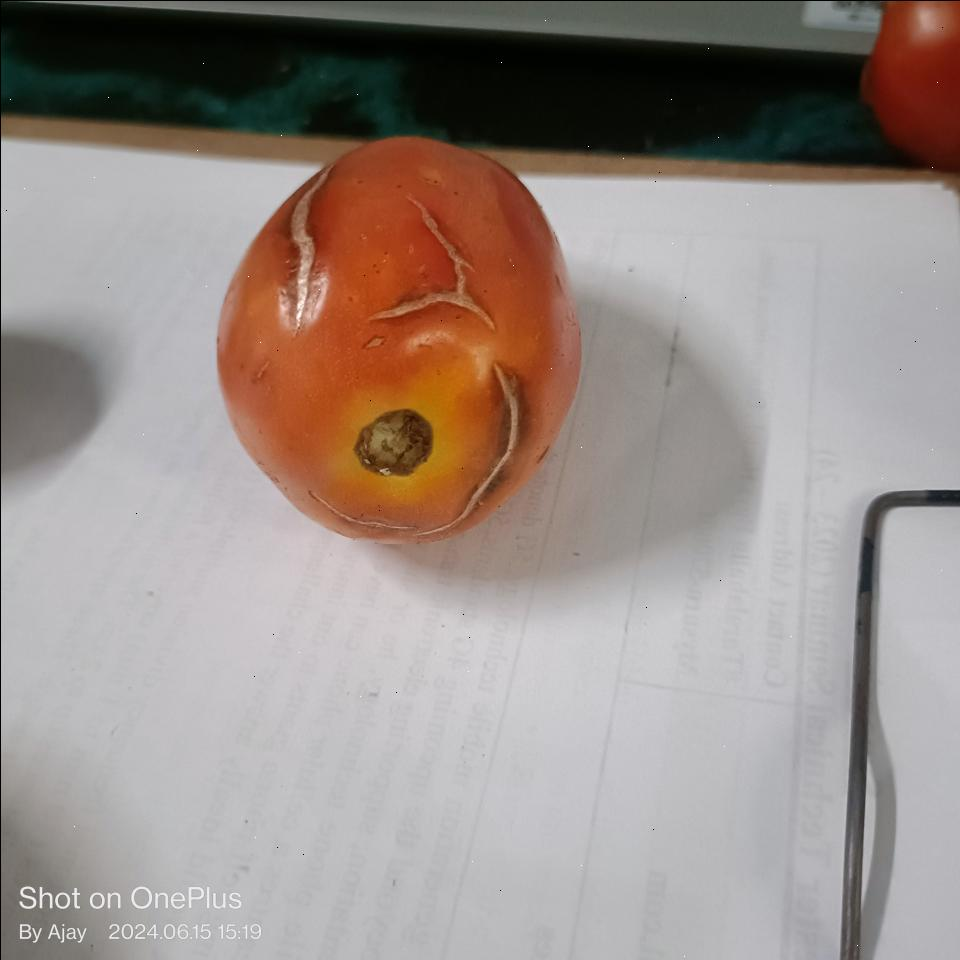Cracking: (410, 358, 531, 540), (367, 188, 504, 339), (280, 158, 345, 326)
